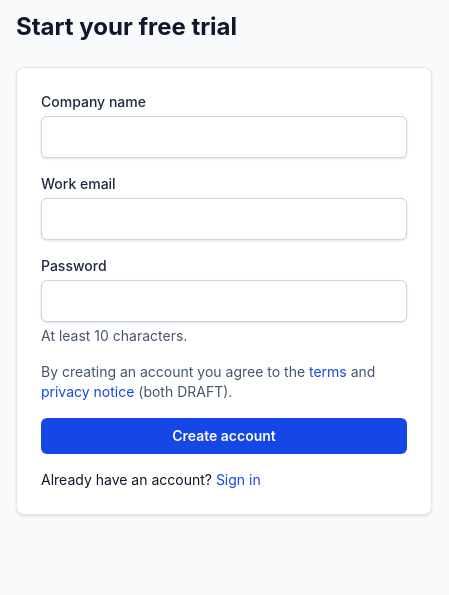
Test: SignUp › clears an earlier error on the next attempt
Click the button "Create account": [224, 436] box [41,418,407,454]
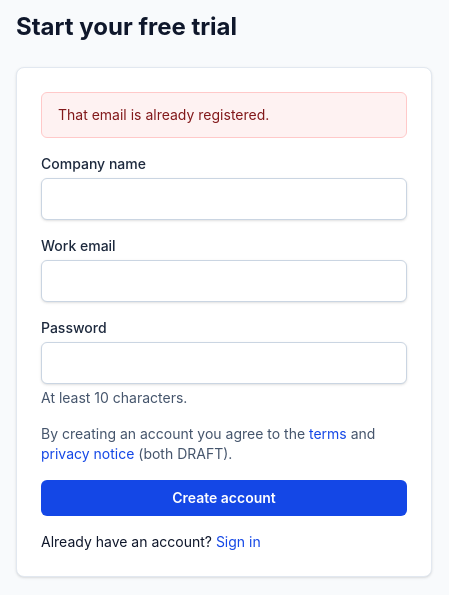
Check: the message "That email is already registered." is shown, box [41,92,407,138]
Click the button "Create account": [224, 498] box [41,480,407,516]
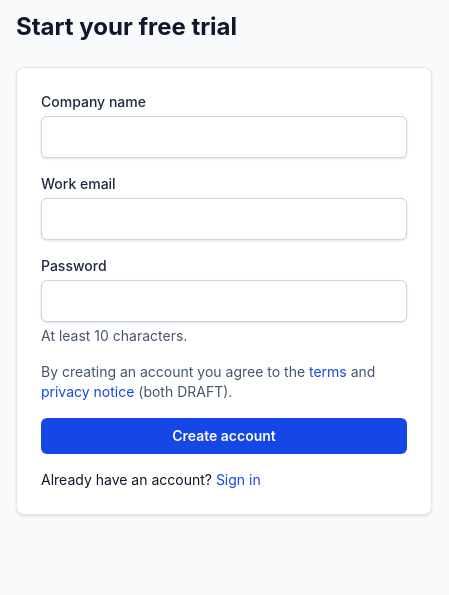
Check: the message "That email is already registered." is gone
